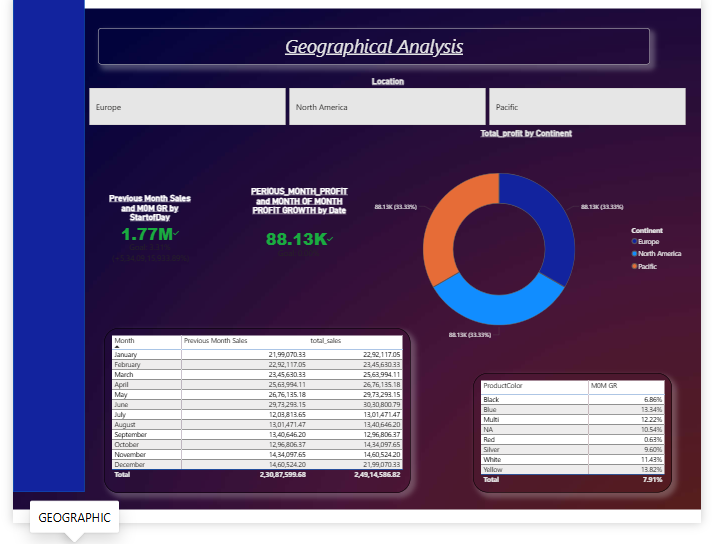

This screenshot's page, from the dashboard's own definition file:
{"tool":"powerbi","page":{"name":"GEOGRAPHIC ","canvas":[1375,1050],"ordinal":1},"visuals":[{"type":"shape","box":[0,0,143.1,988.2],"z":0},{"type":"textbox","box":[170.6,60.8,1103.9,72.5],"z":1000},{"type":"advancedSlicerVisual","title":"Location","fields":{"Values":["Territory Lookup (1).Continent"]},"box":[147.1,156.9,1203.9,103.9],"z":2000},{"type":"donutChart","fields":{"Category":["Territory Lookup (1).Continent Hierarchy.Continent","Territory Lookup (1).Continent Hierarchy.Country","Territory Lookup (1).Continent Hierarchy.Region"],"Y":["Product Lookup.Total_profit"]},"box":[701.6,260.7,649.2,465.6],"z":3000},{"type":"tableEx","fields":{"Values":["Calendar Lookup.Date.Variation.Date Hierarchy.Month","Append1 Sales Data.Previous Month prifit","Append1 Sales Data.total_sales"]},"box":[182,659,613.1,329.5],"z":4000},{"type":"tableEx","fields":{"Values":["Product Lookup.ProductColor","Append1 Sales Data.M0M GR"]},"box":[919.7,749.2,398.4,239.3],"z":5000},{"type":"kpi","fields":{"Indicator":["Append1 Sales Data.Previous Month Sales"],"Goal":["Append1 Sales Data.M0M GR"],"TrendLine":["Calendar Lookup.StartofDay"]},"box":[182,390.2,183.6,145.9],"z":6000},{"type":"kpi","fields":{"Goal":["Append1 Sales Data.MONTH OF MONTH PROFIT GROWTH"],"Indicator":["Append1 Sales Data.PERIOUS_MONTH_PROFIT"],"TrendLine":["Calendar Lookup.Date"]},"box":[457.4,375.4,229.5,175.4],"z":7000}]}

Visuals, with their boxes in screenshot pixels (x1, y1, x2, y2), scaled from the page's 1375x1050 canvas onto the 712x544 screenshot:
shape: left=0, top=0, right=74, bottom=512
textbox: left=88, top=32, right=660, bottom=69
"Location" advancedSlicerVisual: left=76, top=81, right=700, bottom=135
donutChart - Territory Lookup (1).Continent Hierarchy.Continent x Territory Lookup (1).Continent Hierarchy.Country: left=363, top=135, right=699, bottom=376
tableEx - Calendar Lookup.Date.Variation.Date Hierarchy.Month x Append1 Sales Data.Previous Month prifit: left=94, top=341, right=412, bottom=512
tableEx - Product Lookup.ProductColor x Append1 Sales Data.M0M GR: left=476, top=388, right=683, bottom=512
kpi - Append1 Sales Data.Previous Month Sales x Append1 Sales Data.M0M GR: left=94, top=202, right=189, bottom=278
kpi - Append1 Sales Data.MONTH OF MONTH PROFIT GROWTH x Append1 Sales Data.PERIOUS_MONTH_PROFIT: left=237, top=194, right=356, bottom=285
